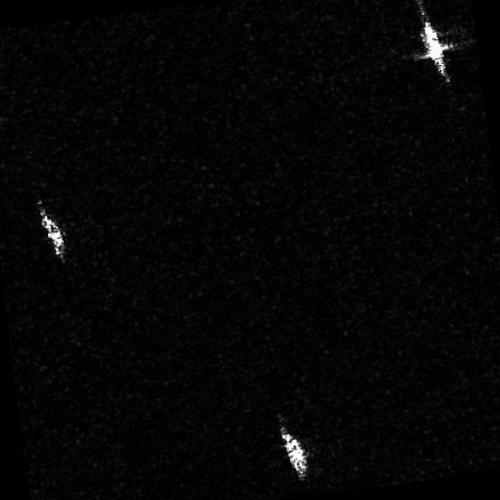ship: (279, 427, 308, 478), (422, 19, 446, 78), (38, 209, 64, 259)
